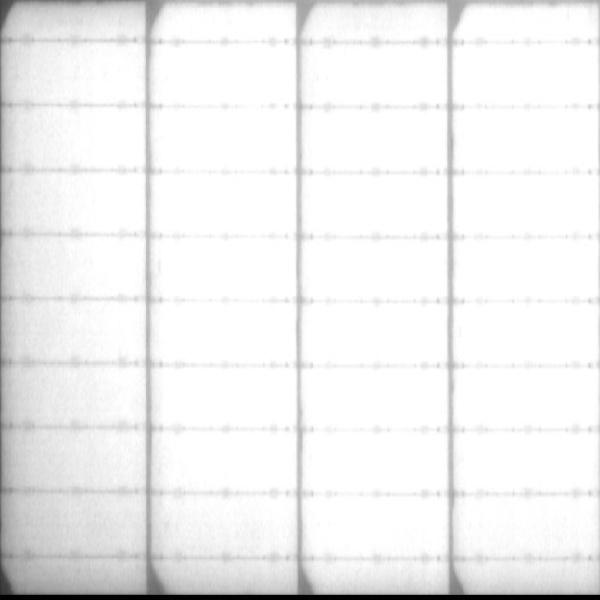hot_spot: (309, 371, 442, 427), (160, 310, 293, 365), (160, 47, 291, 102), (307, 500, 444, 552), (158, 371, 287, 425), (312, 180, 441, 233), (309, 437, 440, 489), (158, 179, 286, 231), (463, 244, 591, 296), (466, 307, 590, 360), (165, 439, 291, 491), (165, 114, 287, 167), (461, 53, 592, 102), (163, 244, 291, 294), (467, 370, 590, 422), (314, 249, 444, 298), (465, 115, 591, 165), (464, 437, 594, 485), (313, 119, 443, 166), (468, 180, 592, 229), (308, 311, 440, 357), (464, 502, 592, 549), (322, 53, 442, 102), (467, 7, 592, 38)
